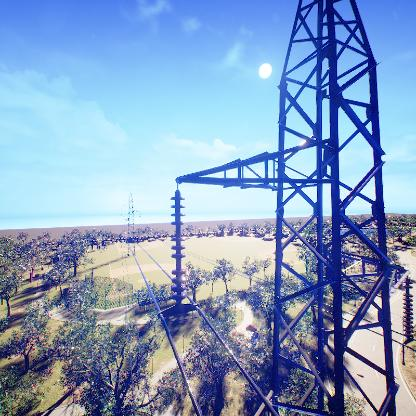insulator: (166, 191, 188, 303), (401, 283, 415, 341)
